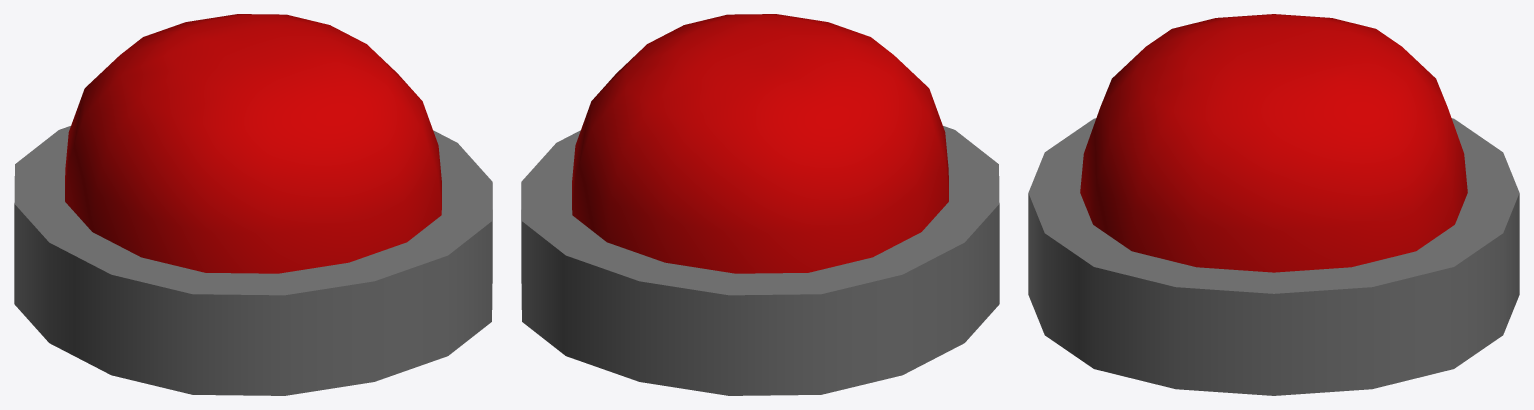
Rendered from Button.fbx.
3 views of the same model, side by side, from view 1: azimuth 30°, elevation 25°; view 2: azimuth 150°, elevation 25°; view 3: azimuth 270°, elevation 25° (orthographic).
Parts seen in each view (by area): view 1: BUTTON, BASE; view 2: BUTTON, BASE; view 3: BUTTON, BASE.
Part boxes in pixels (<box>): BUTTON: <box>65,14,441,273</box>; BASE: <box>14,126,492,395</box>; BUTTON: <box>572,14,948,273</box>; BASE: <box>521,126,999,395</box>; BUTTON: <box>1080,14,1467,272</box>; BASE: <box>1028,118,1519,395</box>.
Size of the model in its own units: 2831 by 1637 by 2906.
